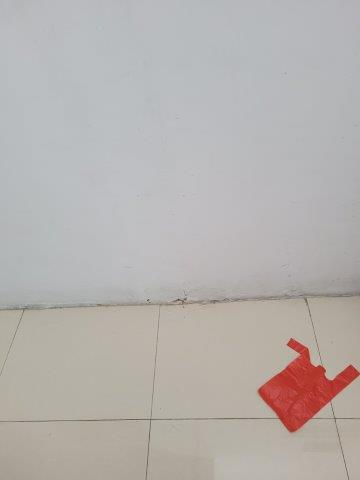plastik: (256, 340, 360, 434)
